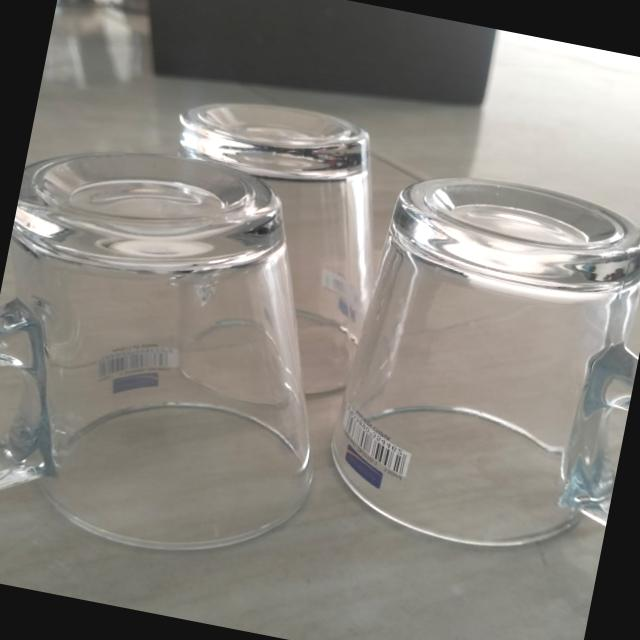glass-VX4N: (0, 126, 356, 576), (313, 154, 640, 568), (120, 83, 380, 429)
